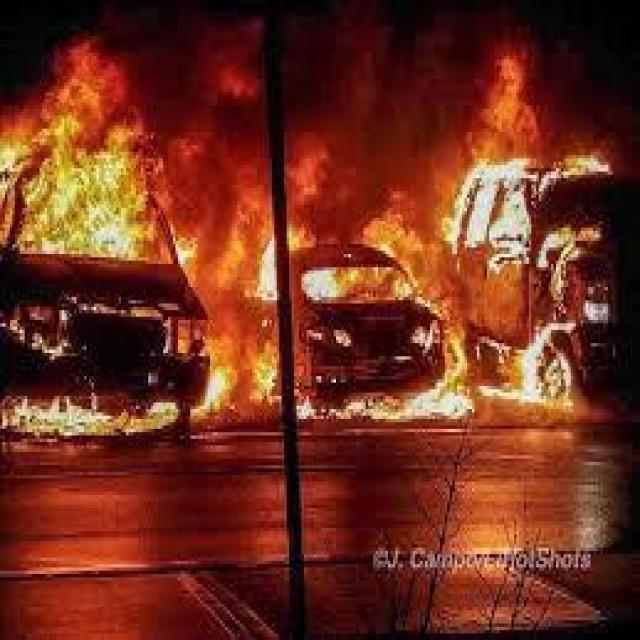Fire: (17, 49, 185, 276), (288, 137, 445, 269), (470, 58, 618, 176), (424, 340, 558, 420), (8, 390, 185, 442), (445, 160, 528, 264), (211, 302, 282, 422), (204, 217, 286, 298), (310, 267, 420, 301)
Smoke: (282, 14, 459, 128), (159, 24, 262, 178)
